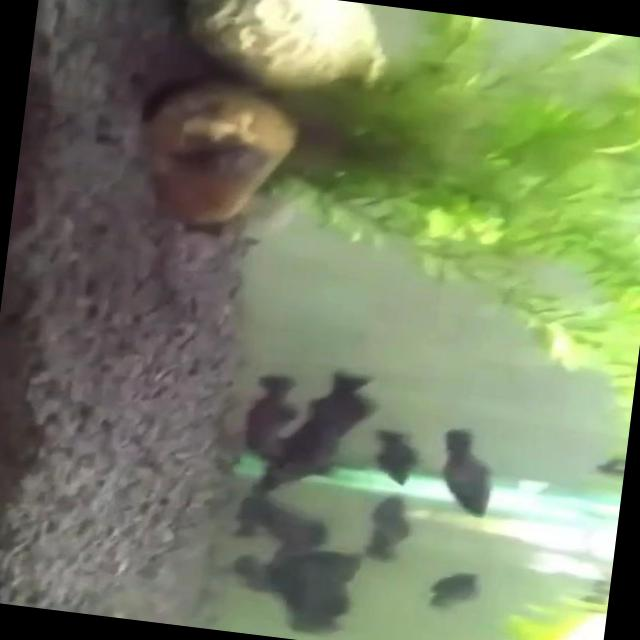PlatyFish: (428, 422, 504, 526), (362, 422, 423, 490)
